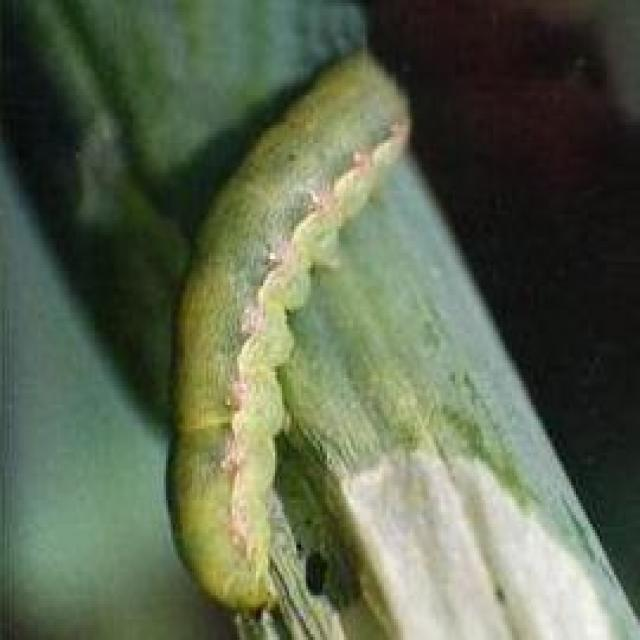BeetArmyWorm-Larva-: (152, 45, 429, 618)
